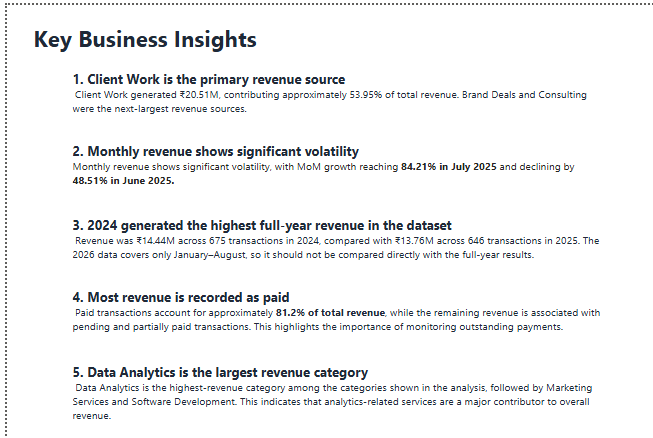

Layout of this report page (visuals, bound fields, positions):
{"tool":"powerbi","page":{"name":"Business Insights","canvas":[1280,720],"ordinal":1},"visuals":[{"type":"textbox","box":[10,0,280,280],"z":0},{"type":"textbox","box":[33.1,20.2,432,54.7],"z":1},{"type":"textbox","box":[88,87.8,780,102.2],"z":2},{"type":"textbox","box":[88,190.1,780,105.1],"z":3},{"type":"textbox","box":[88,295.2,780,103.7],"z":4},{"type":"textbox","box":[88,398.9,780,106.6],"z":5},{"type":"textbox","box":[88,505.4,780,106.6],"z":6}]}

Visuals, with their boxes on the page's 1280x720 design canvas (x1, y1, x2, y2). These are canvas units, not pixel positions in the 653x438 screenshot, which may show the page scaled, cropped or inside an application window:
textbox: x1=10, y1=0, x2=290, y2=280
textbox: x1=33, y1=20, x2=465, y2=75
textbox: x1=88, y1=88, x2=868, y2=190
textbox: x1=88, y1=190, x2=868, y2=295
textbox: x1=88, y1=295, x2=868, y2=399
textbox: x1=88, y1=399, x2=868, y2=506
textbox: x1=88, y1=505, x2=868, y2=612
